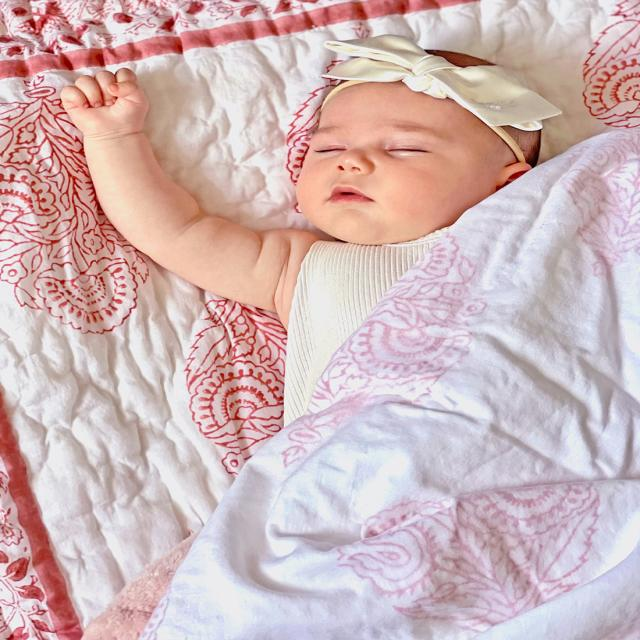blanket: (143, 131, 638, 639)
